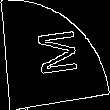M_W: (30, 29, 80, 81)
